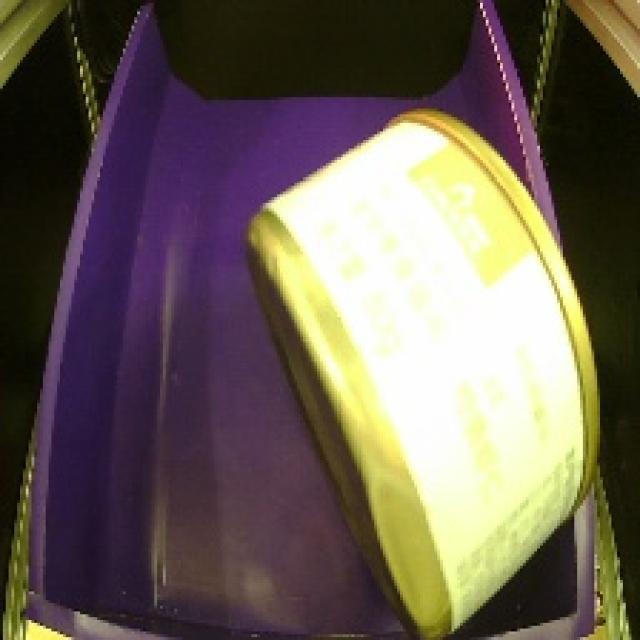metal: (225, 85, 611, 640)
